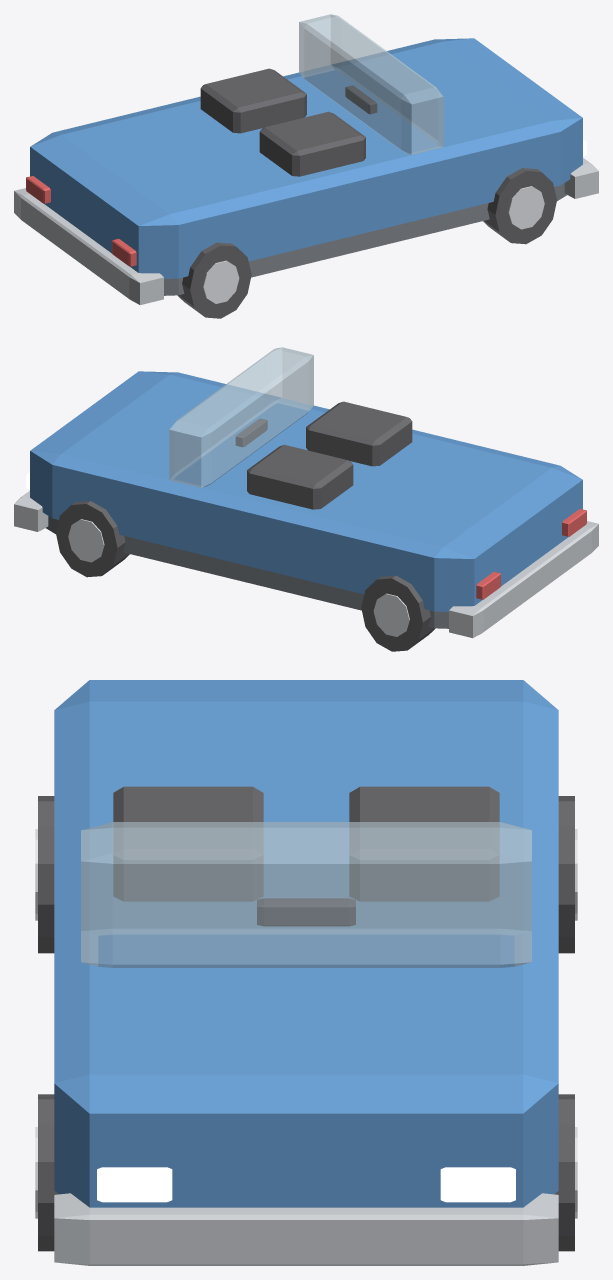
File: b03_two_seat_open_roadster.glb
The picture shows the model from 3 angles, top to bottom: view 1: azimuth 30°, elevation 25°; view 2: azimuth 150°, elevation 25°; view 3: azimuth 270°, elevation 25°; orthographic projection. The views are drawn at different scales.
Parts seen in each view (by area): view 1: b03_two_seat_open_roadster; view 2: b03_two_seat_open_roadster; view 3: b03_two_seat_open_roadster.
Boxes of the visible parts, x1,y1,x2,y2 form: b03_two_seat_open_roadster: (14,14,598,318); b03_two_seat_open_roadster: (14,347,598,651); b03_two_seat_open_roadster: (35,680,577,1265).
Bounding box in the file's own units: 4.16 × 1.39 × 2.11.
